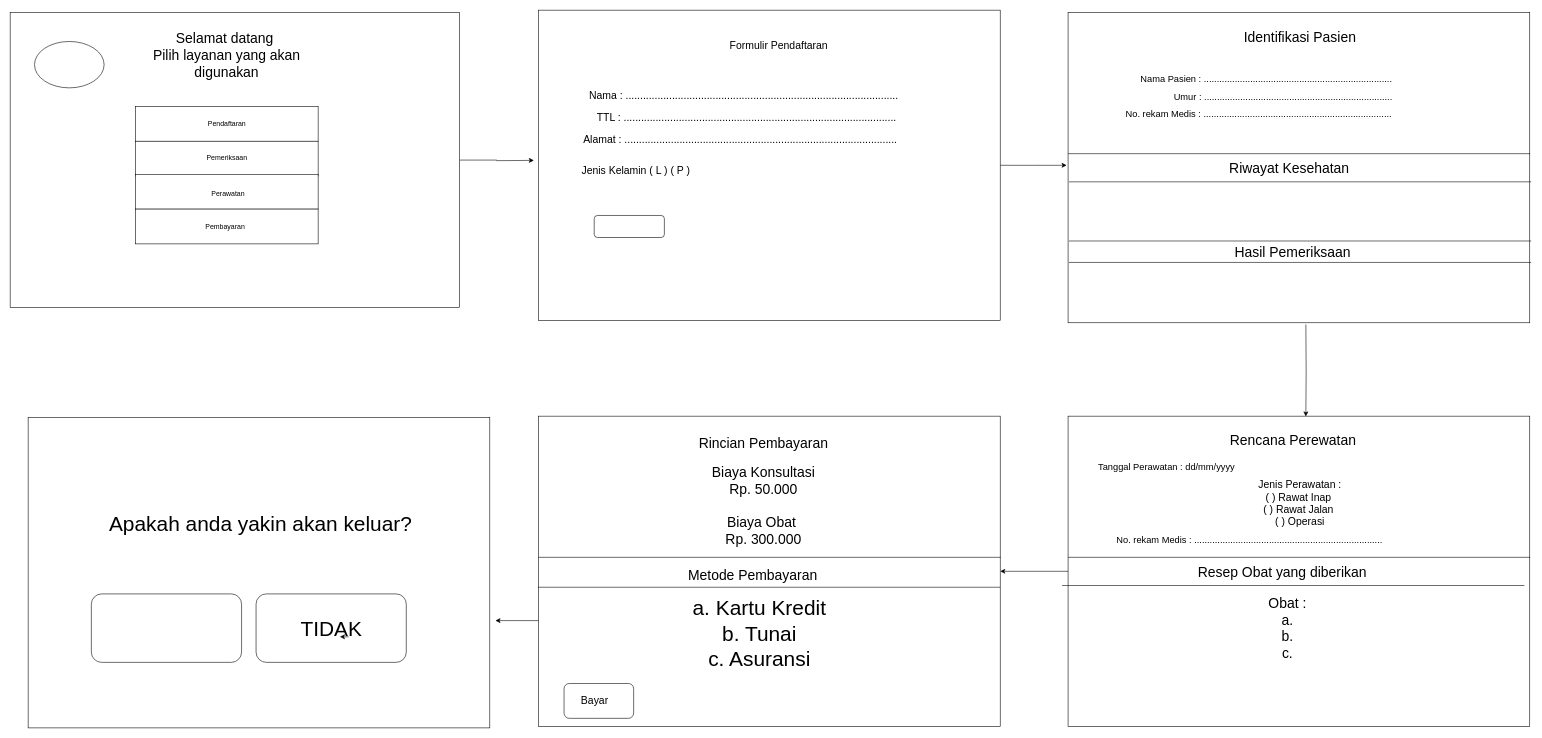
The diagram is 1542 pixels wide and 738 high, and some of its shapes have lost their labels. Each missing label, with the centre of its shape:
Logo: pixel 69 64
Submit: pixel 629 226
YA: pixel 166 627
